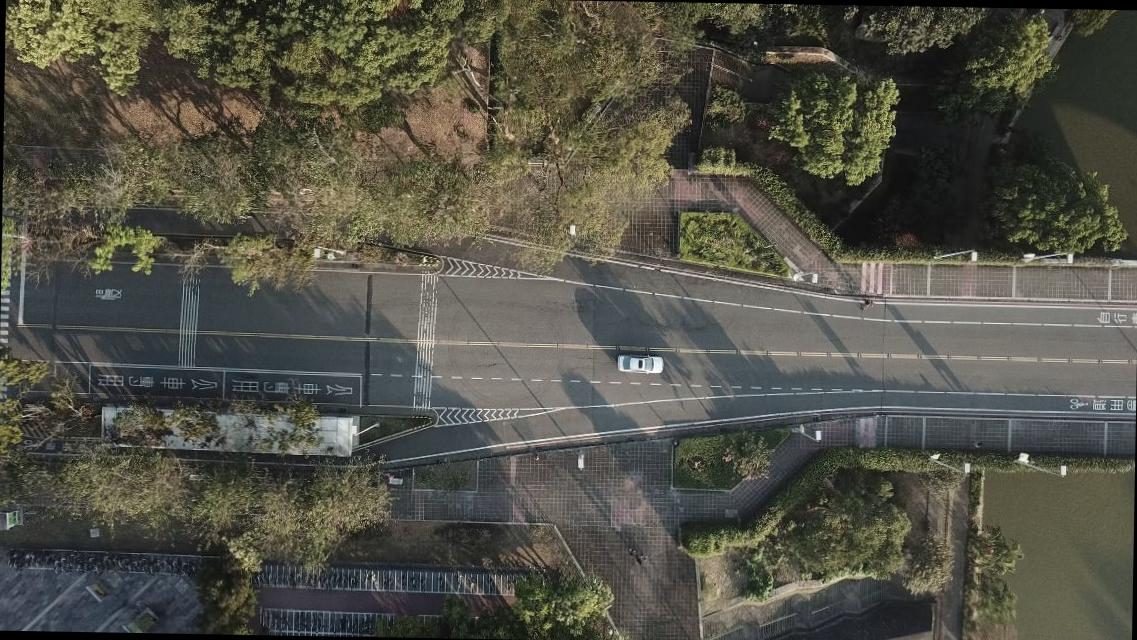vehicle: (618, 353, 664, 374)
